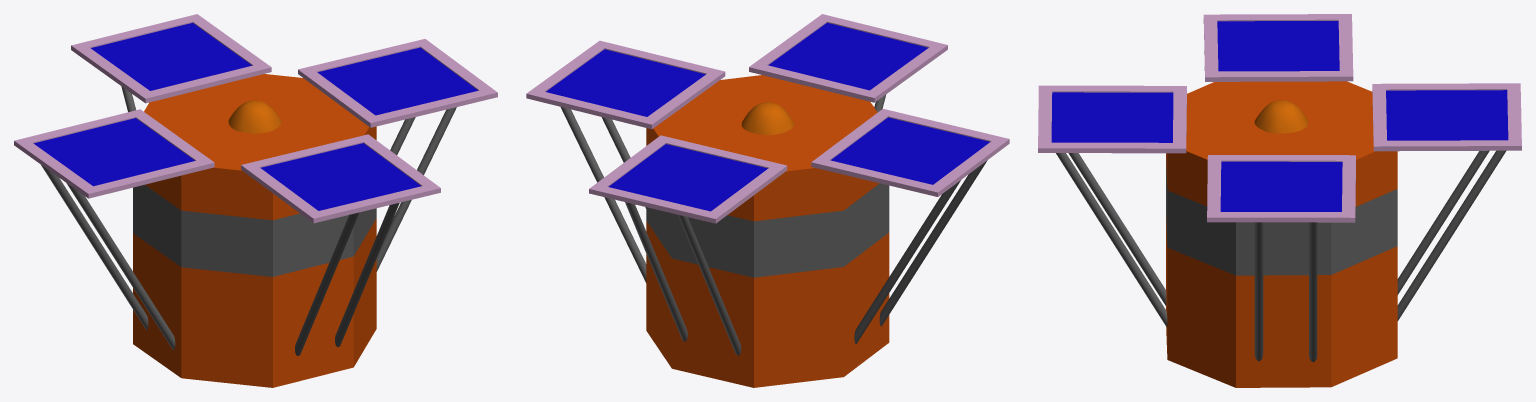
Rendered from satelite.obj.
3 views of the same model, side by side, from view 1: azimuth 30°, elevation 25°; view 2: azimuth 150°, elevation 25°; view 3: azimuth 270°, elevation 25° (orthographic).
Parts seen in each view (by area): view 1: Cylinder, Cube.002, Cube.003, Cube, Cube.001, Cylinder.006, Cylinder.001, Cylinder.004, Cylinder.003, Icosphere, Cylinder.002; view 2: Cylinder, Cube.002, Cube, Cube.003, Cube.001, Cylinder.006, Cylinder.001, Cylinder.005, Cylinder.008, Cylinder.007, Icosphere, Cylinder.002; view 3: Cylinder, Cube.003, Cube.001, Cube.002, Cube, Cylinder.004, Cylinder.007, Cylinder.003, Cylinder.008, Cylinder.002, Icosphere, Cylinder.005.
Part boxes in pixels (<box>): Cylinder: <box>133,74,376,387</box>; Cube.002: <box>14,109,214,198</box>; Cube.003: <box>241,134,440,223</box>; Cube: <box>298,39,497,127</box>; Cube.001: <box>71,14,271,103</box>; Cylinder.006: <box>66,183,175,350</box>; Cylinder.001: <box>41,165,148,329</box>; Cylinder.004: <box>335,203,399,346</box>; Cylinder.003: <box>295,212,359,355</box>; Icosphere: <box>228,100,281,133</box>; Cylinder.002: <box>376,107,456,271</box>; Cylinder: <box>646,75,889,387</box>; Cube.002: <box>811,109,1009,196</box>; Cube: <box>526,40,725,129</box>; Cube.003: <box>749,14,947,102</box>; Cube.001: <box>589,135,787,223</box>; Cylinder.006: <box>879,160,987,326</box>; Cylinder.001: <box>854,180,960,344</box>; Cylinder.005: <box>560,107,646,282</box>; Cylinder.008: <box>678,215,741,355</box>; Cylinder.007: <box>625,202,687,341</box>; Icosphere: <box>741,102,794,135</box>; Cylinder.002: <box>601,117,646,208</box>; Cylinder: <box>1166,81,1397,387</box>; Cube.003: <box>1038,85,1186,153</box>; Cube.001: <box>1372,83,1521,151</box>; Cube.002: <box>1203,14,1353,81</box>; Cube: <box>1207,155,1355,222</box>; Cylinder.004: <box>1056,153,1167,327</box>; Cylinder.007: <box>1397,150,1506,320</box>; Cylinder.003: <box>1068,153,1166,306</box>; Cylinder.008: <box>1397,150,1489,294</box>; Cylinder.002: <box>1254,222,1263,361</box>; Icosphere: <box>1254,100,1308,133</box>; Cylinder.005: <box>1309,222,1317,362</box>.
Bounding box in the file's own units: 3.21 × 1.74 × 3.22.
